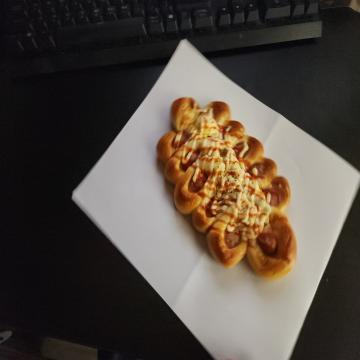pizza_bread: (158, 99, 300, 280)
